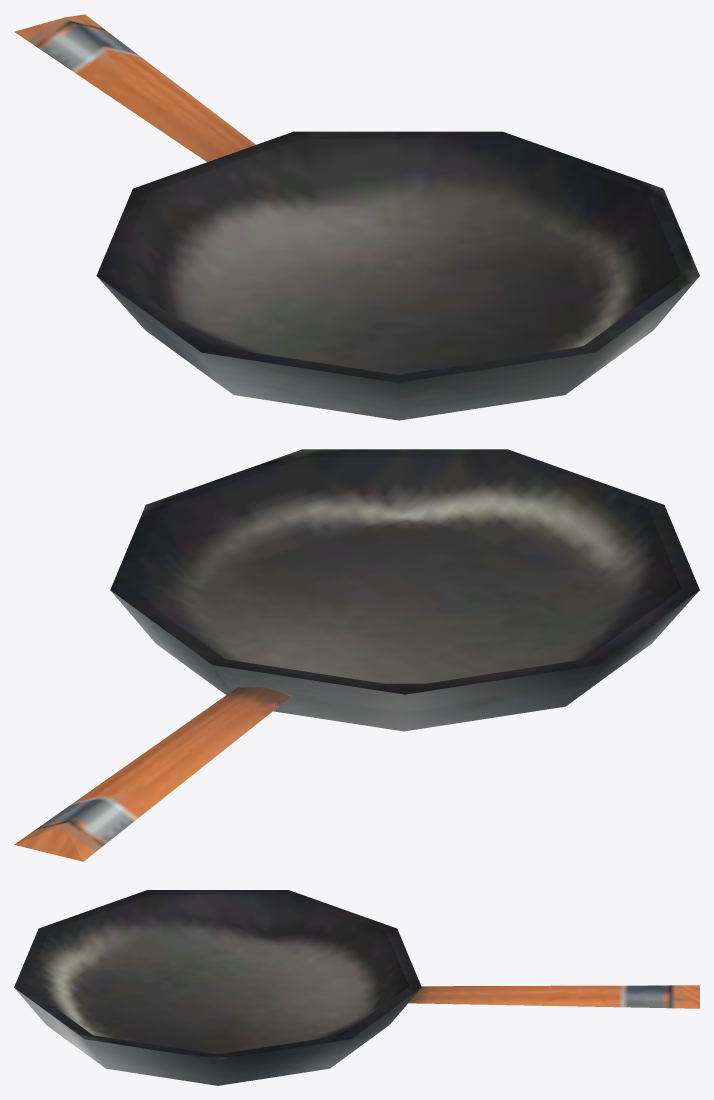
File: frypan.fbx
3 views of the same model, one above another, from view 1: azimuth 30°, elevation 25°; view 2: azimuth 150°, elevation 25°; view 3: azimuth 270°, elevation 25° (orthographic). The views are drawn at different scales.
Parts seen in each view (by area): view 1: mesh_0; view 2: mesh_0; view 3: mesh_0.
Part boxes in pixels (x1=…): mesh_0: x1=14, y1=14, x2=699, y2=420; mesh_0: x1=14, y1=449, x2=699, y2=861; mesh_0: x1=14, y1=890, x2=699, y2=1085.
Size of the model in its own units: 30.18 by 3.28 by 51.54.
1 material, 1 textured.
